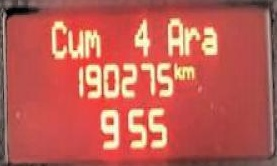0: (100, 59, 119, 98)
1: (71, 59, 84, 98)
2: (119, 59, 136, 98)
4: (129, 13, 151, 56)
5: (124, 104, 146, 148), (147, 103, 168, 148), (156, 58, 171, 98)
7: (136, 58, 155, 96)
9: (96, 105, 119, 150), (83, 61, 100, 98)
X: (48, 16, 67, 60), (164, 13, 183, 56), (83, 25, 100, 60), (65, 25, 82, 60), (200, 21, 217, 56), (183, 21, 199, 56), (181, 61, 194, 80), (172, 58, 182, 81)
